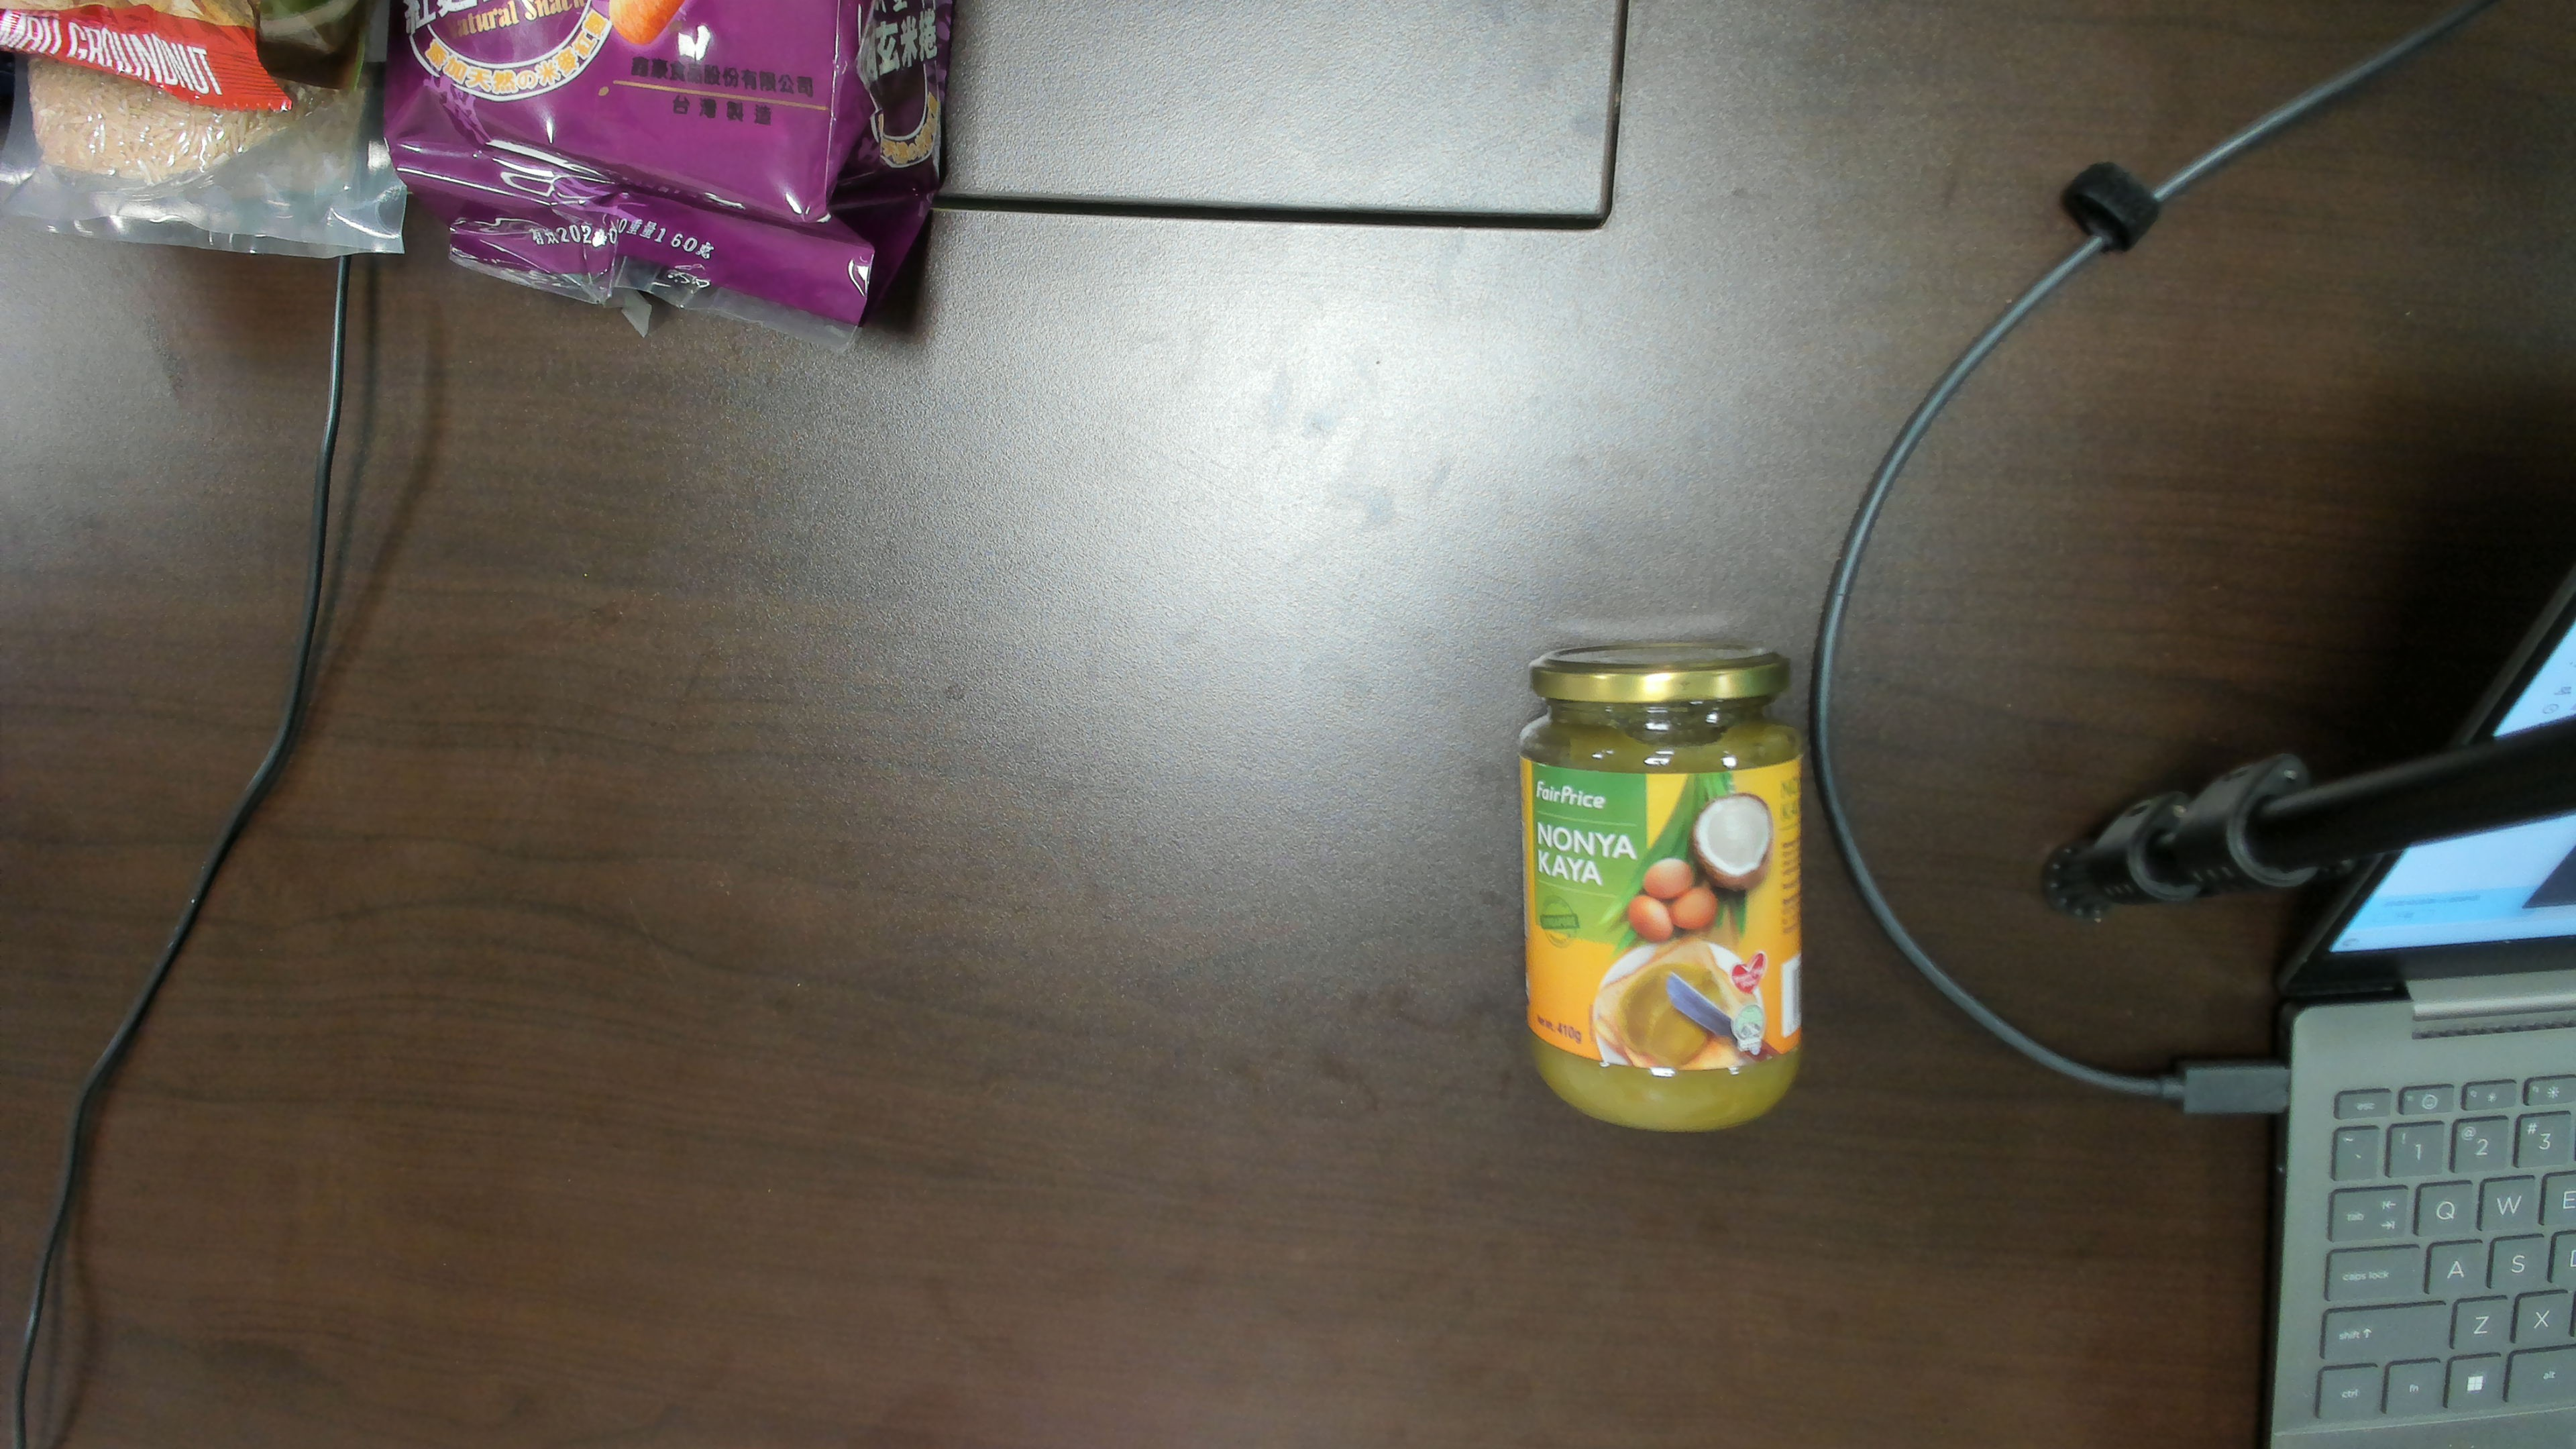Kaya_400-499g_Halal_NonHealthy: (1530, 741, 1787, 1074)
